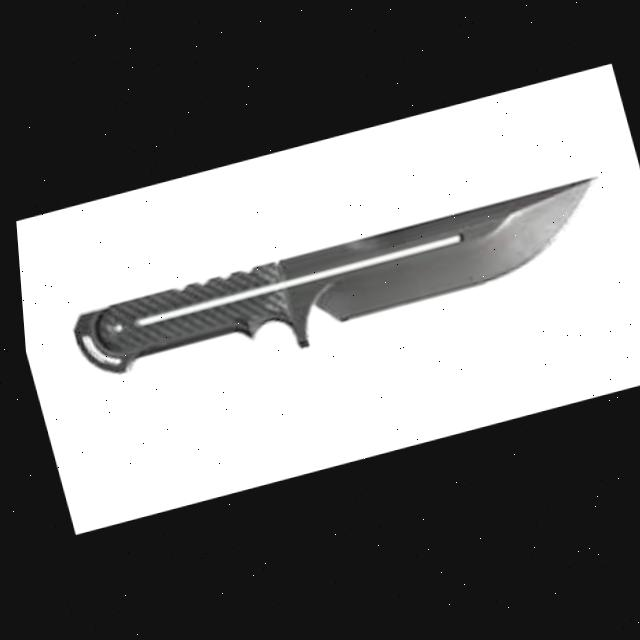Knife: (55, 179, 622, 403)
